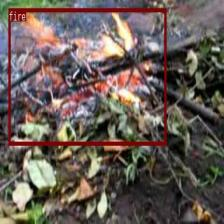fire: (8, 7, 166, 145)
